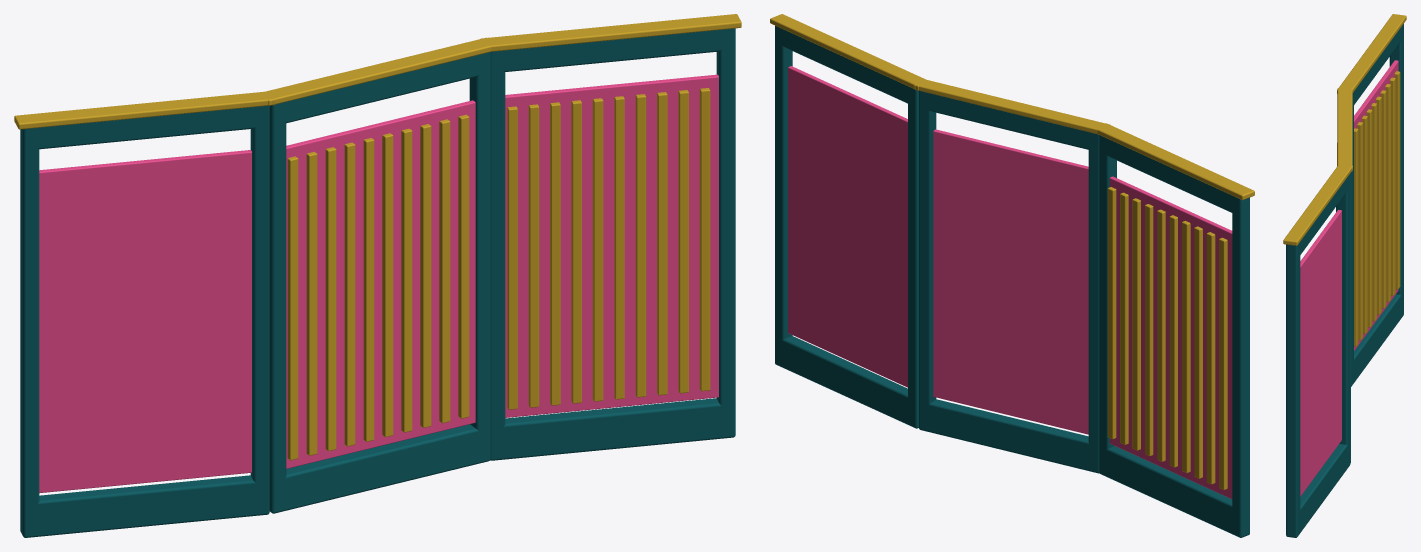
The model's file is lobby-screen.glb.
3 renders of one model, left to right at view 1: azimuth 30°, elevation 25°; view 2: azimuth 150°, elevation 25°; view 3: azimuth 270°, elevation 25°, orthographic. The views are drawn at different scales.
Parts seen in each view (by area): view 1: left.field, right.field, centre.field, left.rail.bottom, right.rail.bottom, centre.rail.bottom, left.stile.far, centre.stile.near, right.stile.far, left.stile.near, centre.stile.far, right.stile.near (+26 smaller); view 2: centre.field, right.field, left.field, centre.rail.bottom, left.stile.far, left.rail.bottom, right.rail.bottom, centre.stile.far, right.stile.far, centre.stile.near, right.stile.near, left.stile.near (+16 smaller); view 3: right.field, right.stile.far, right.stile.near, right.rail.bottom, left.rail.bottom, right.cap, left.cap, left.slat.3, left.slat.6, left.slat.9, centre.cap, left.stile.far (+12 smaller).
Part boxes in pixels (x1=…): left.field: x1=39, y1=150, x2=251, y2=493; right.field: x1=505, y1=74, x2=718, y2=417; centre.field: x1=286, y1=100, x2=475, y2=468; left.rail.bottom: x1=20, y1=475, x2=269, y2=537; right.rail.bottom: x1=490, y1=398, x2=735, y2=460; centre.rail.bottom: x1=270, y1=424, x2=490, y2=513; left.stile.far: x1=20, y1=128, x2=39, y2=537; centre.stile.near: x1=269, y1=102, x2=286, y2=513; right.stile.far: x1=716, y1=28, x2=735, y2=438; left.stile.near: x1=250, y1=125, x2=269, y2=483; centre.stile.far: x1=469, y1=52, x2=490, y2=463; right.stile.near: x1=490, y1=51, x2=505, y2=460; centre.field: x1=933, y1=129, x2=1088, y2=434; right.field: x1=788, y1=66, x2=907, y2=387; left.field: x1=1109, y1=176, x2=1232, y2=498; centre.rail.bottom: x1=919, y1=399, x2=1099, y2=473; left.stile.far: x1=1232, y1=212, x2=1249, y2=511; left.rail.bottom: x1=1099, y1=446, x2=1249, y2=537; right.rail.bottom: x1=775, y1=336, x2=917, y2=427; centre.stile.far: x1=919, y1=91, x2=936, y2=431; right.stile.far: x1=775, y1=26, x2=792, y2=366; centre.stile.near: x1=1088, y1=132, x2=1099, y2=473; right.stile.near: x1=908, y1=87, x2=918, y2=428; left.stile.near: x1=1099, y1=135, x2=1116, y2=476; right.field: x1=1300, y1=210, x2=1341, y2=496; right.stile.far: x1=1286, y1=242, x2=1300, y2=537; right.stile.near: x1=1336, y1=174, x2=1350, y2=467; right.rail.bottom: x1=1286, y1=443, x2=1350, y2=537; left.rail.bottom: x1=1351, y1=293, x2=1403, y2=386; right.cap: x1=1283, y1=164, x2=1352, y2=245; left.cap: x1=1337, y1=14, x2=1406, y2=93; left.slat.3: x1=1366, y1=109, x2=1372, y2=327; left.slat.6: x1=1380, y1=90, x2=1386, y2=308; left.slat.9: x1=1394, y1=71, x2=1400, y2=289; centre.cap: x1=1337, y1=88, x2=1352, y2=171; left.stile.far: x1=1389, y1=37, x2=1403, y2=295.
Size of the model in its own units: 2.68 by 1.64 by 0.6124.
